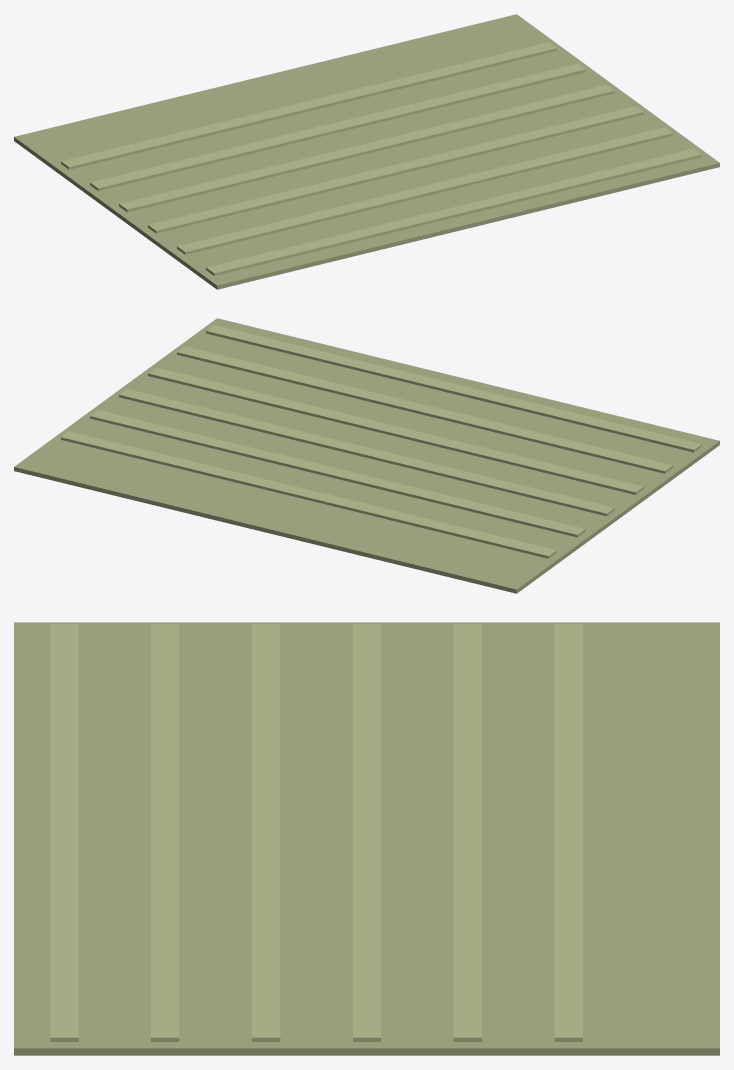
The model's file is crop-0.glb.
3 renders of one model, top to bottom at view 1: azimuth 30°, elevation 25°; view 2: azimuth 150°, elevation 25°; view 3: azimuth 270°, elevation 25°, orthographic. The views are drawn at different scales.
Size of the model in its own units: 10 by 0.13 by 7.
